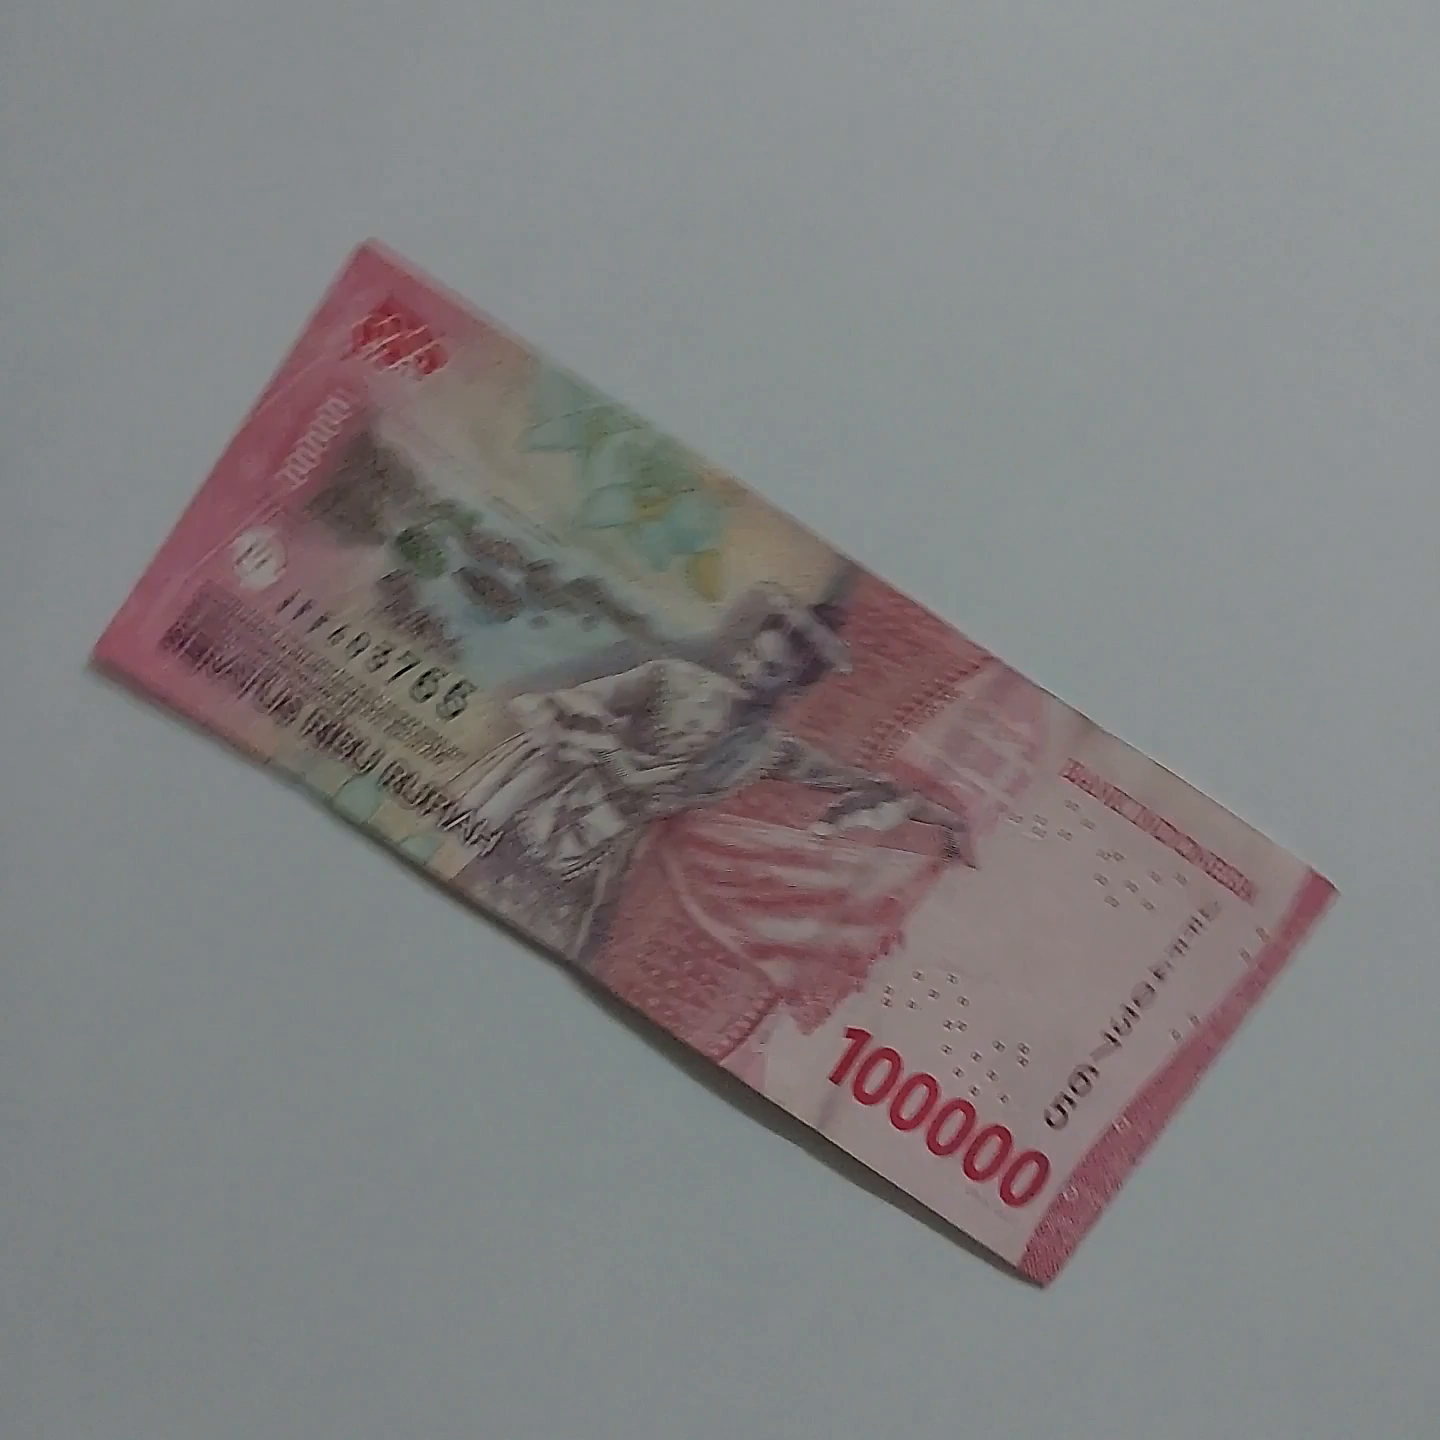100k: (349, 200, 1440, 781)
